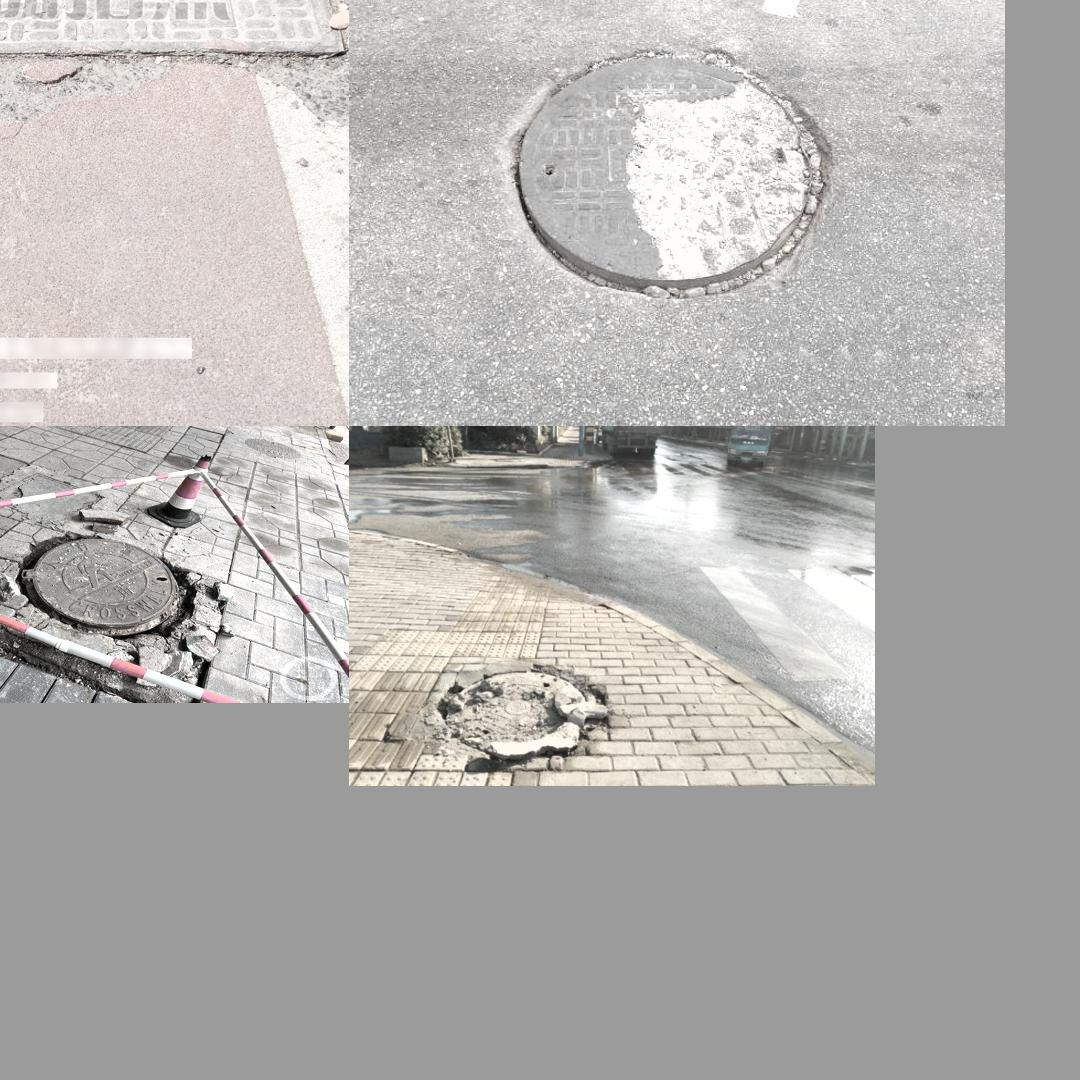circle: (500, 34, 847, 304), (0, 521, 219, 693), (0, 0, 349, 65), (417, 653, 609, 763)
